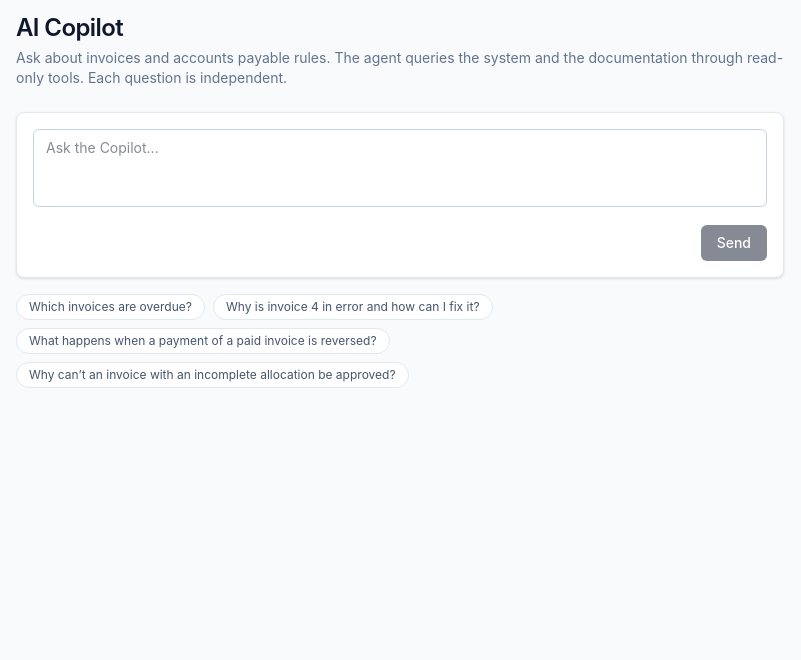
Test: CopilotPage › renderiza Markdown da resposta sem interpretar HTML bruto
This screenshot has width=801, height=660.
Type "Status do título 4?" into the text box named "Question". click: {"x": 400, "y": 168}
box: [33, 129, 767, 207]
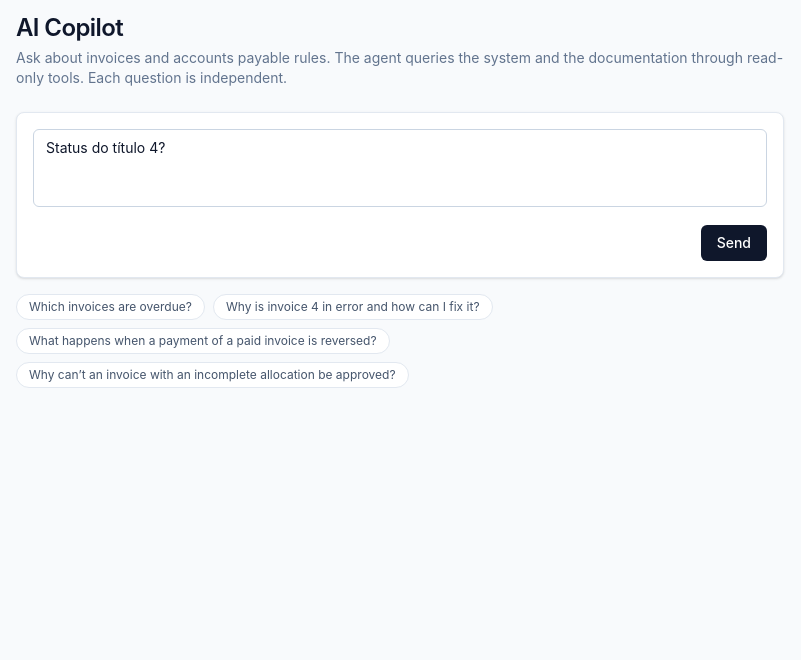
Click the button "Send". click: {"x": 734, "y": 243}
box: [701, 225, 767, 261]
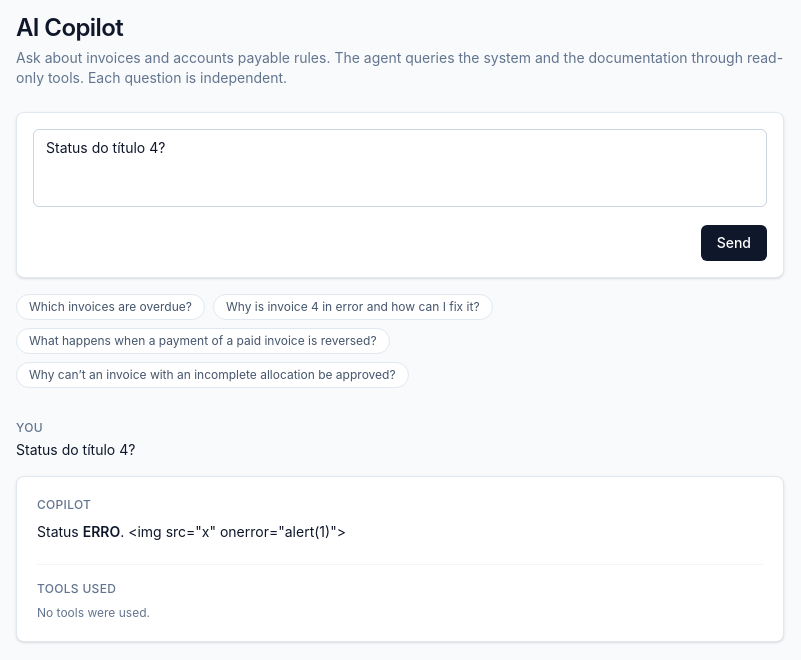
Now the text "No tools were used." is shown, box [37, 605, 150, 620]
